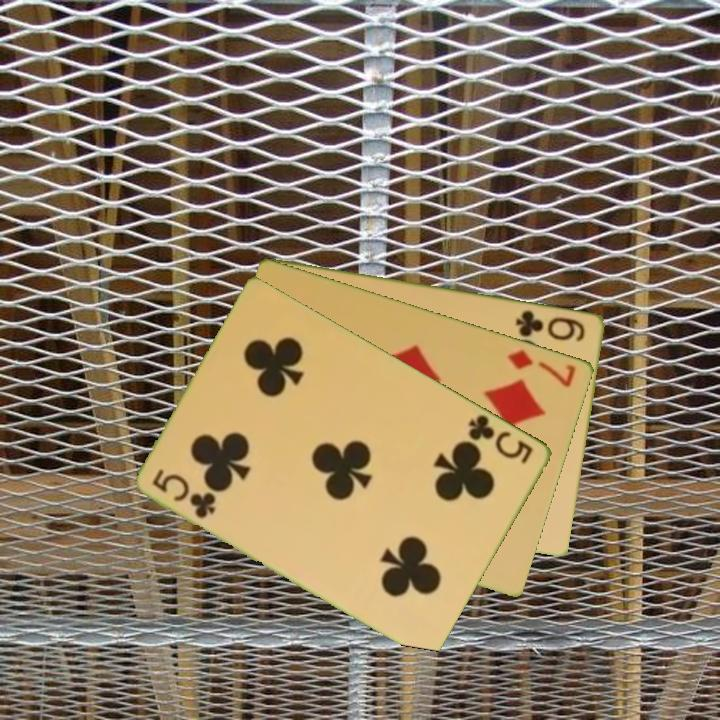5c: (149, 465, 220, 522), (465, 410, 537, 466)
6c: (513, 306, 588, 344)
7d: (504, 346, 580, 390)
